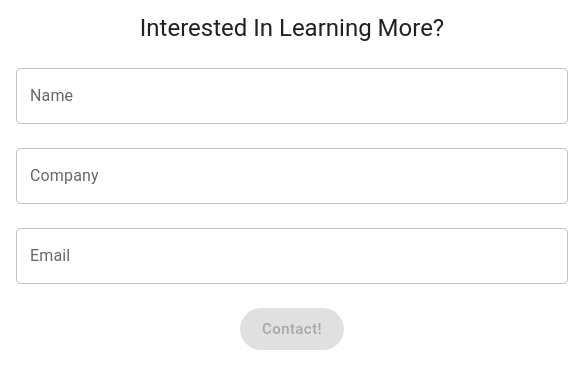
Test: should enable the button when fields are filled
Check: the button "Contact!" is disabled, box left=240, top=308, right=344, bottom=350
Type "John Doe" into the field labelled "Name" at point(292, 96), box left=16, top=68, right=568, bottom=124
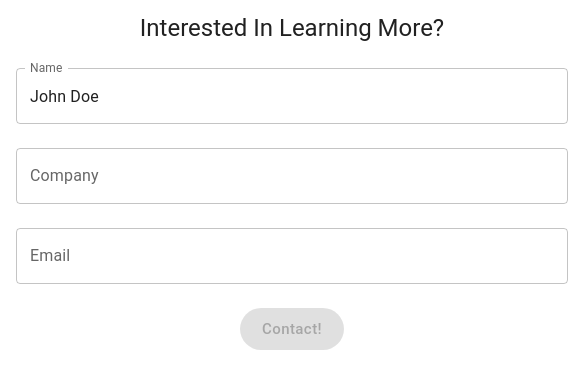
Type "Moveworks" into the field labelled "Company" at point(292, 176), box left=16, top=148, right=568, bottom=204
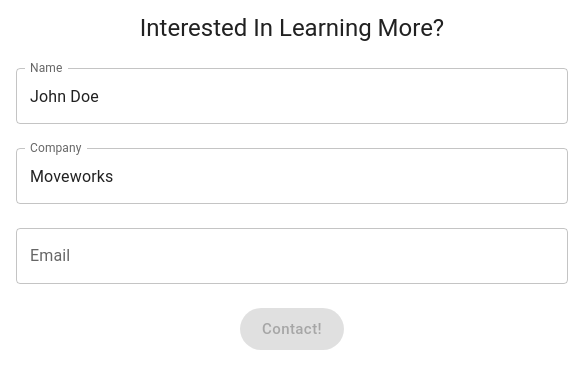
Type "contact@moveworks.com" into the field labelled "Email" at point(292, 256), box left=16, top=228, right=568, bottom=284
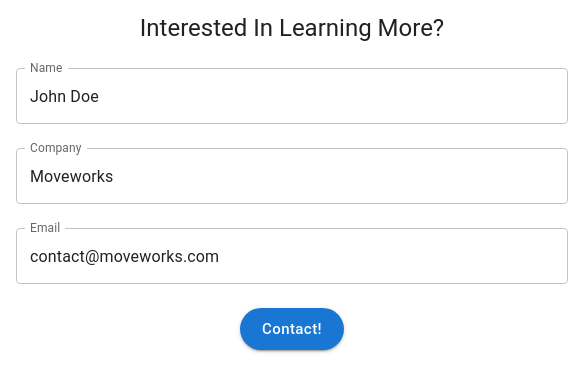
Check: the button "Contact!" is enabled, box left=240, top=308, right=344, bottom=350
